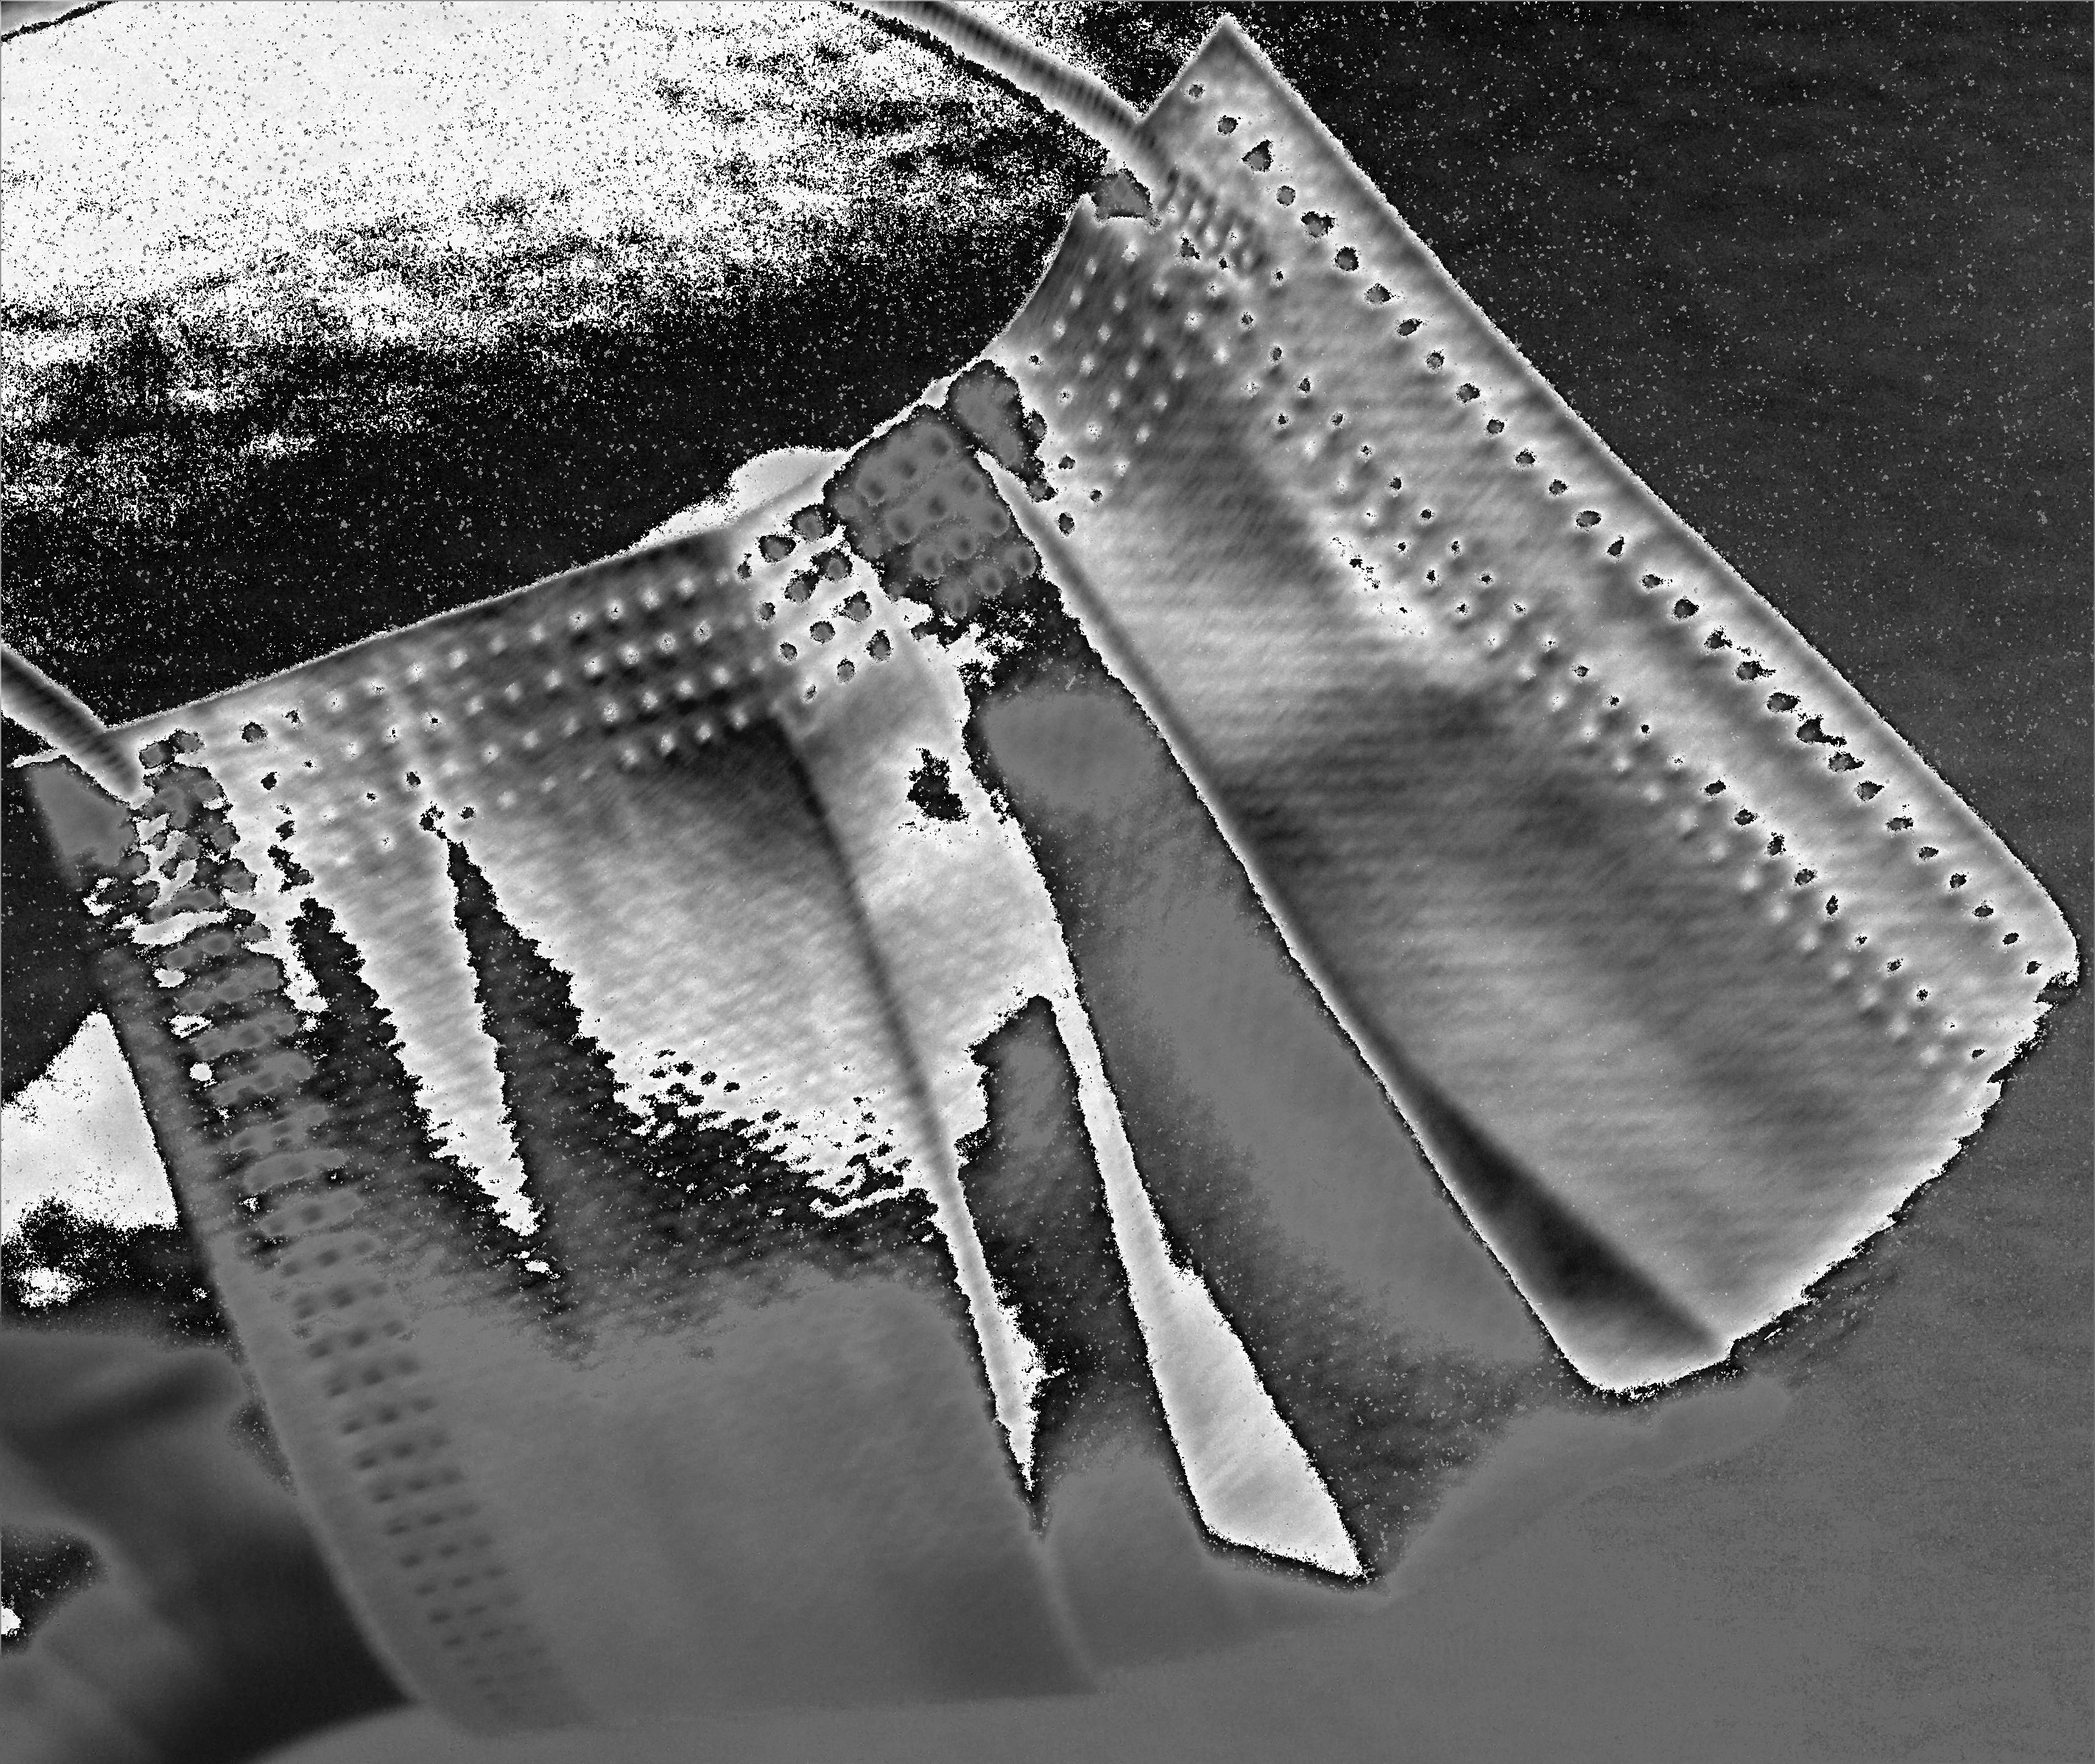Low GSM: (487, 856, 1743, 1564)
